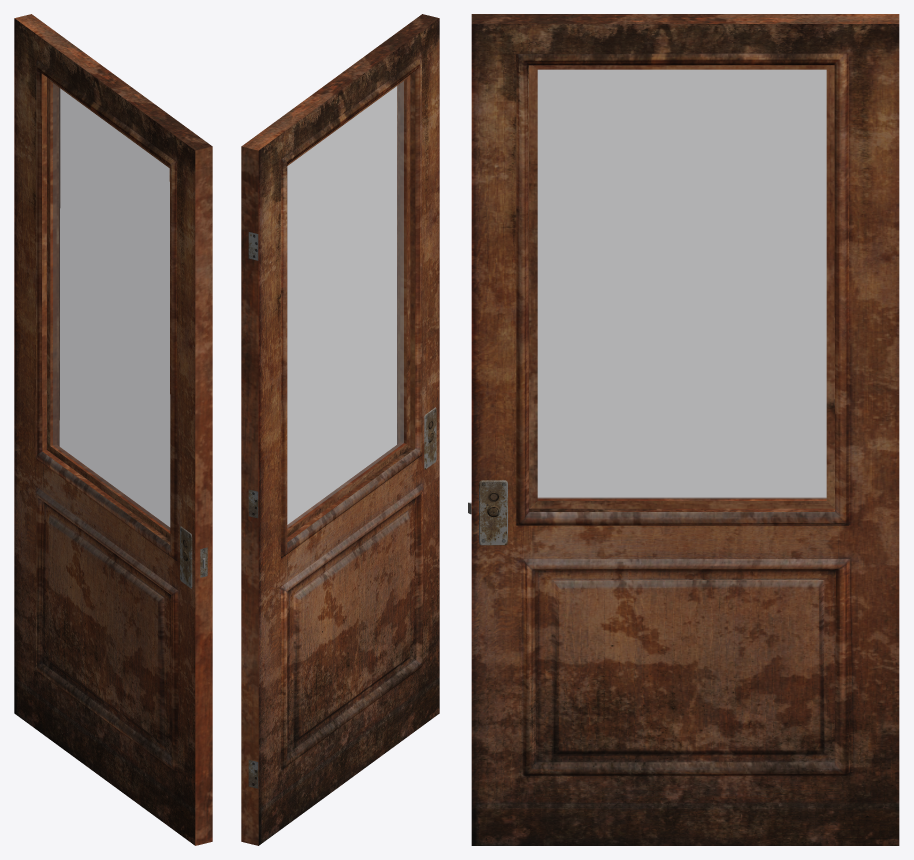
File: Door_01.fbx
The picture shows the model from 3 angles, left to right: view 1: azimuth 30°, elevation 25°; view 2: azimuth 150°, elevation 25°; view 3: azimuth 270°, elevation 25°; orthographic projection. The views are drawn at different scales.
Visible parts, largest first — view 1: Door_01; view 2: Door_01; view 3: Door_01.
Boxes of the visible parts, box(x1,y1,x2,y2) form: Door_01: box(14, 14, 212, 845); Door_01: box(241, 14, 439, 845); Door_01: box(468, 14, 899, 845).
Bounding box in the file's own units: 0.1003 × 2.71 × 1.29.
